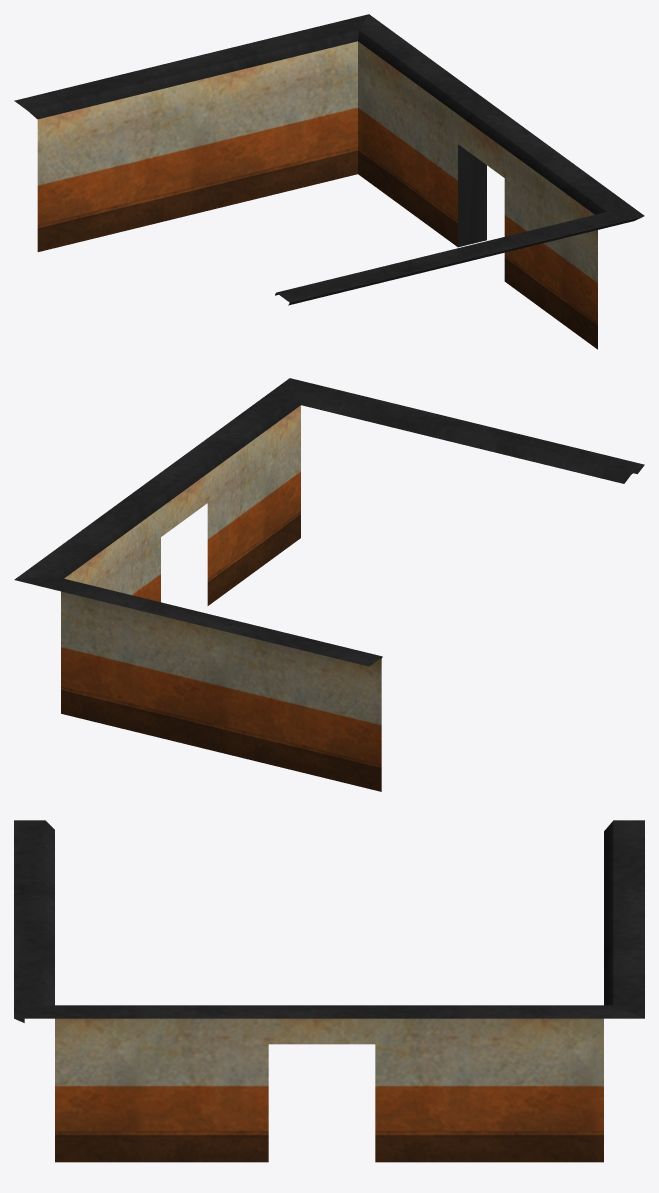
File: wall03.fbx
The picture shows the model from 3 angles, top to bottom: view 1: azimuth 30°, elevation 25°; view 2: azimuth 150°, elevation 25°; view 3: azimuth 270°, elevation 25°; orthographic projection. The views are drawn at different scales.
Visible parts, largest first — view 1: pCube4; view 2: pCube4; view 3: pCube4.
Boxes of the visible parts, x1,y1,x2,y2 form: pCube4: (14, 14, 644, 349); pCube4: (14, 378, 644, 791); pCube4: (14, 820, 644, 1162).
Bounding box in the file's own units: 769 × 289 × 1035.
